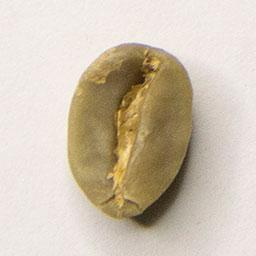longberry: (64, 39, 196, 222)
